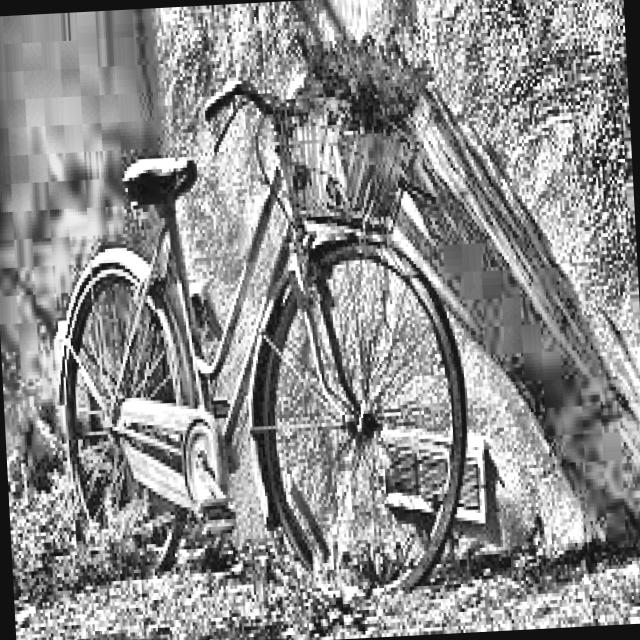bicycle: (25, 36, 490, 612)
